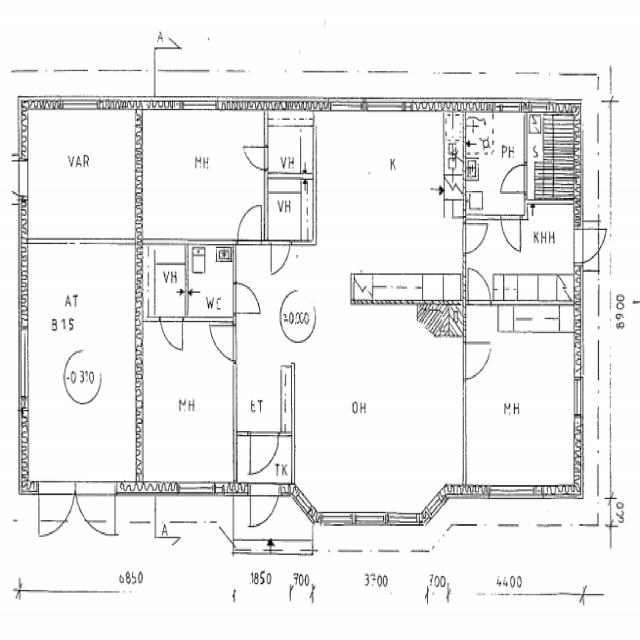door: (34, 485, 97, 542), (72, 486, 117, 538), (245, 430, 281, 479), (460, 336, 496, 381), (247, 483, 280, 532), (574, 222, 606, 267), (234, 201, 264, 245), (464, 265, 493, 307), (208, 320, 237, 362), (232, 279, 262, 317), (498, 158, 528, 196), (461, 218, 490, 256), (498, 213, 524, 255), (267, 238, 291, 277), (159, 316, 184, 352), (240, 141, 268, 171)
window: (14, 325, 31, 407), (486, 481, 545, 504), (418, 487, 451, 521), (570, 371, 586, 425), (175, 480, 217, 500), (364, 96, 408, 115), (317, 510, 357, 530), (13, 156, 29, 204), (328, 96, 365, 115), (61, 95, 100, 112), (181, 98, 216, 114), (496, 100, 522, 115)
zone: (462, 304, 580, 494), (312, 109, 451, 229), (140, 109, 265, 242), (140, 317, 236, 489), (21, 107, 140, 245), (462, 111, 526, 209), (34, 484, 120, 542), (526, 110, 579, 202), (186, 246, 236, 322), (142, 243, 188, 321), (264, 177, 316, 244), (522, 202, 577, 256), (265, 123, 315, 178)
